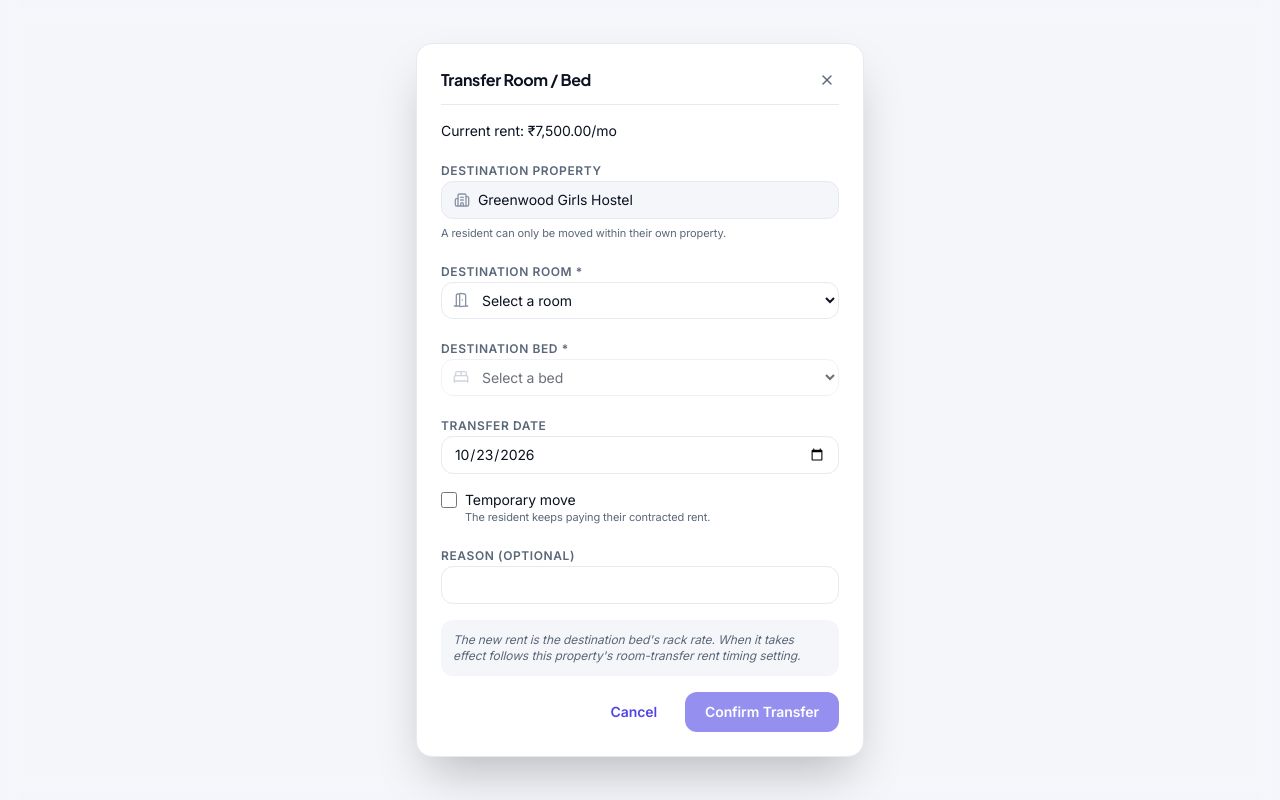
it: TransferRoomDialog › shows the server's message and stays open when the transfer is rejected
Select "Room G01 · Ground Floor (2-sharing, AC)" in the dropdown labelled "Destination room *": coordinates (640, 300) [441,282,839,319]
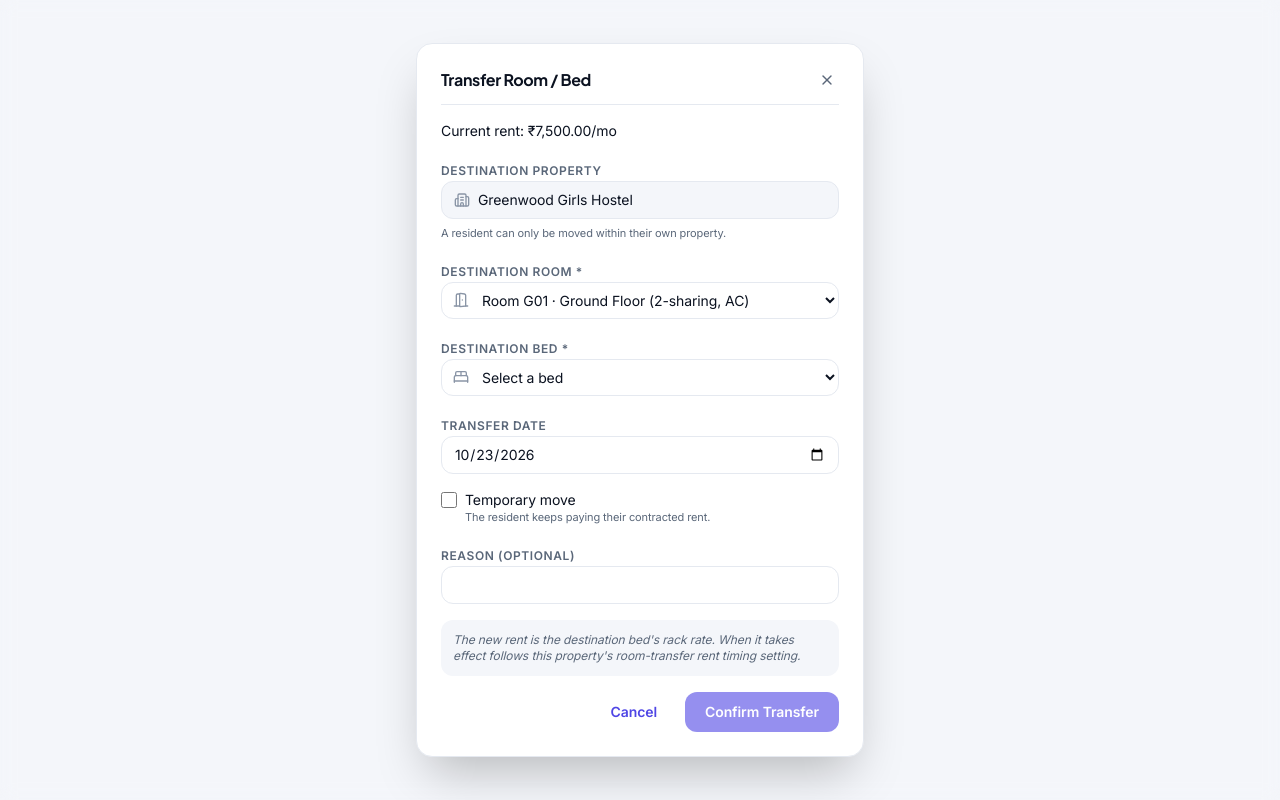
Select "Bed G01-B" in the dropdown labelled "Destination bed *": coordinates (640, 377) [441,359,839,396]
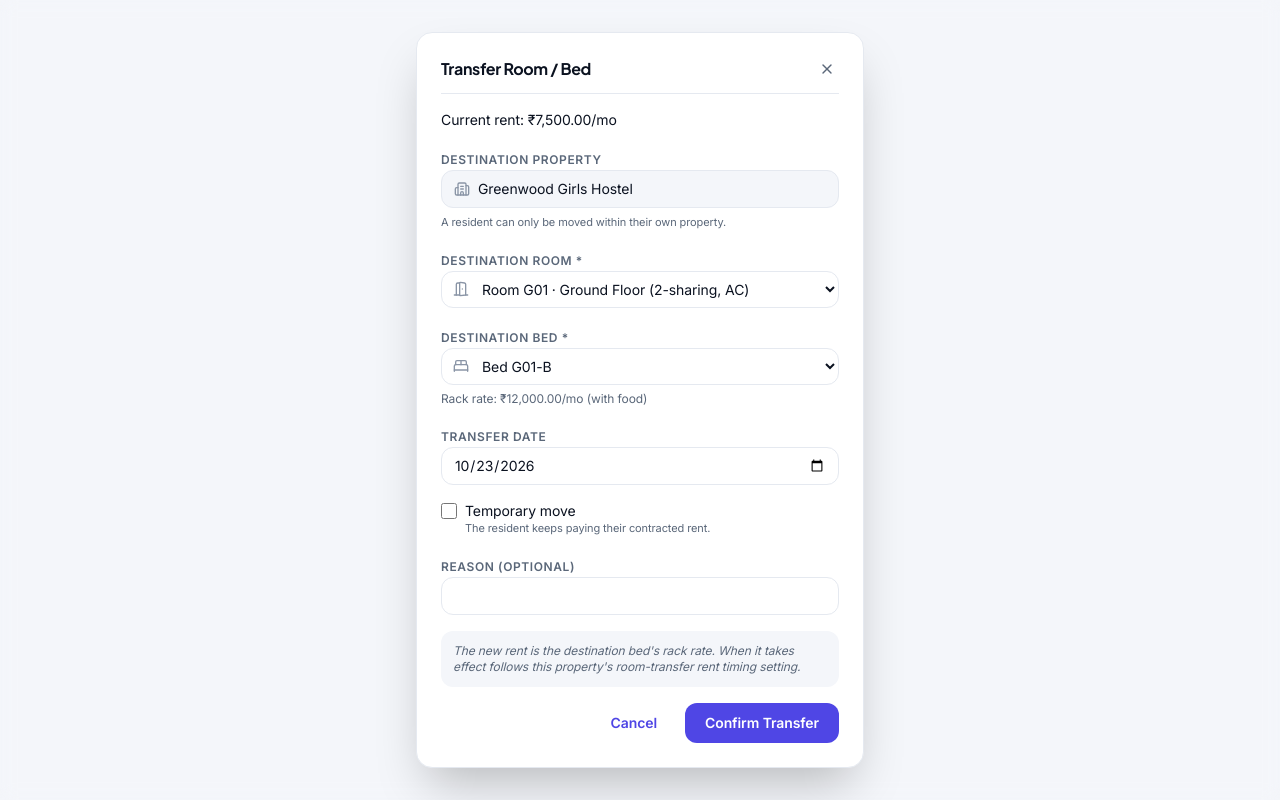
Click the button "Confirm Transfer": coordinates (762, 723) [685,703,839,743]
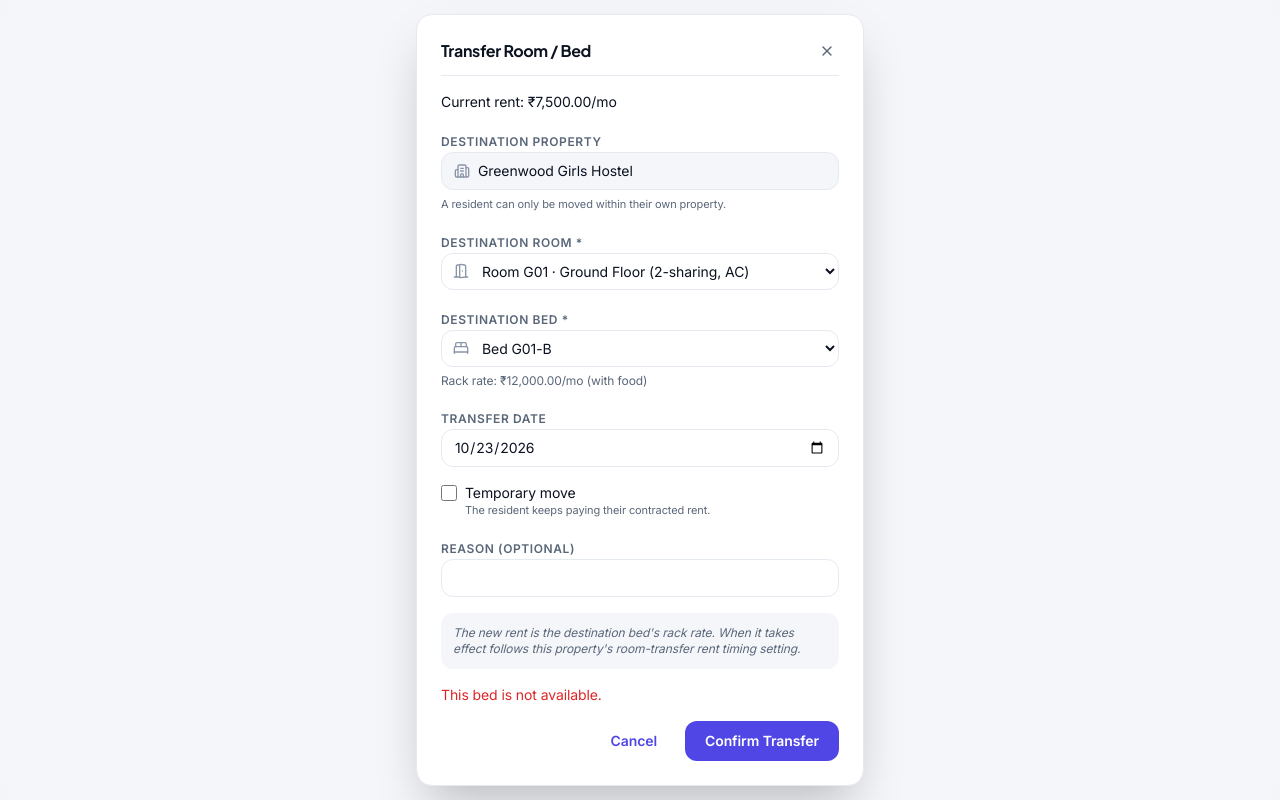
Check: the text "This bed is not available." is shown, box [441,686,602,703]
